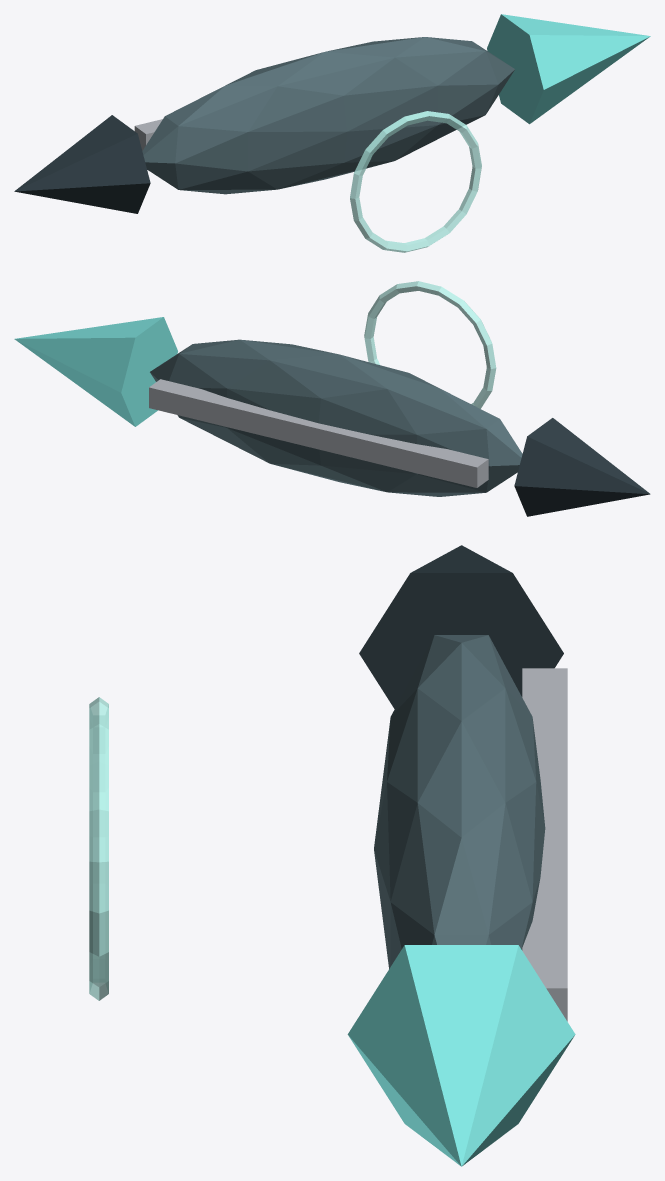
Rendered from 05_skyship_hull.glb.
The picture shows the model from 3 angles, top to bottom: view 1: azimuth 30°, elevation 25°; view 2: azimuth 150°, elevation 25°; view 3: azimuth 270°, elevation 25°; orthographic projection. The views are drawn at different scales.
Visible parts, largest first — view 1: hull_low_poly, bow_upgrade, stern_fin, size_class_ring, keel_plate; view 2: hull_low_poly, keel_plate, bow_upgrade, stern_fin, size_class_ring; view 3: hull_low_poly, bow_upgrade, stern_fin, keel_plate, size_class_ring.
Part boxes in pixels (x1,y1,x2,y2): hull_low_poly: [142, 37, 514, 194]; bow_upgrade: [487, 14, 650, 124]; stern_fin: [14, 115, 150, 213]; size_class_ring: [350, 111, 481, 252]; keel_plate: [134, 119, 162, 150]; hull_low_poly: [150, 339, 522, 496]; keel_plate: [149, 379, 488, 487]; bow_upgrade: [14, 317, 177, 426]; stern_fin: [514, 418, 650, 516]; size_class_ring: [364, 281, 496, 408]; hull_low_poly: [374, 635, 545, 968]; bow_upgrade: [347, 945, 575, 1166]; stern_fin: [359, 545, 563, 708]; keel_plate: [522, 668, 567, 1021]; size_class_ring: [89, 697, 108, 1000].
Bounding box in the file's own units: 5.29 × 1.08 × 1.75.
